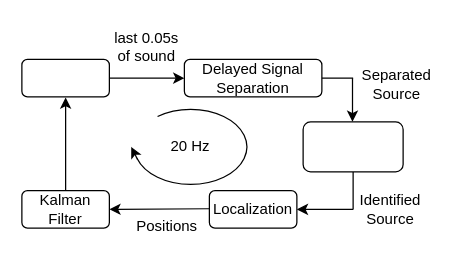
Some shapes in this 456 by 268 pixel diagram are drawn without their labels. The centre of each missing label's shape, as x and y in pixels:
"Simulator" belongs at [65,77].
"Source Identification" belongs at [352,146].
